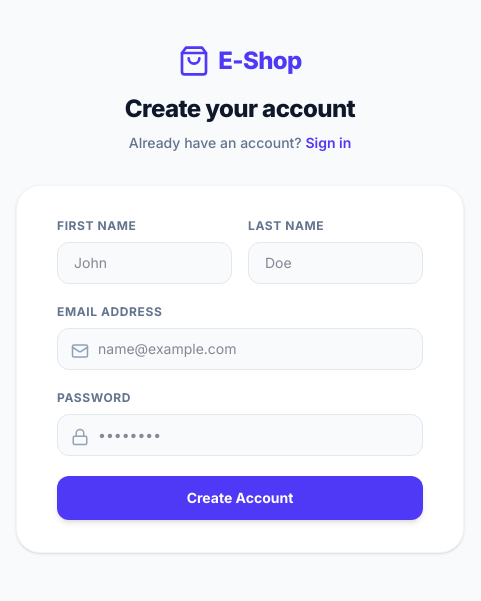
Test case: Register Page › validates empty input values
The width and height of the screenshot is (481, 601).
What coordinates should you click on to do the following:
click the button "Create Account"
I would click on:
 (240, 498)
Its box is [57,476,423,520].
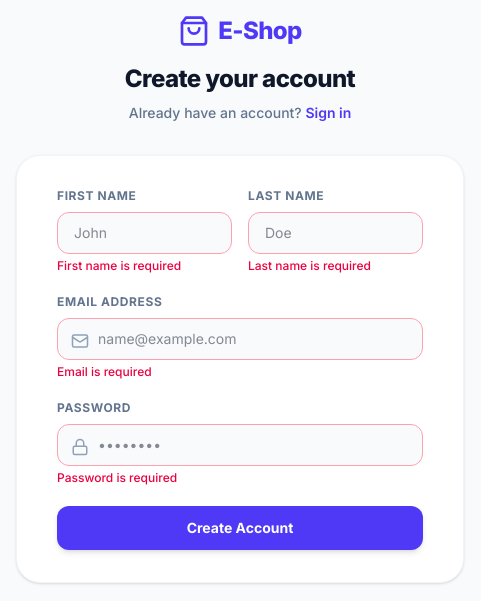
Check: the text "First name is required" is shown, box [57,258,181,273]
Check: the text "Last name is required" is shown, box [248,258,371,273]
Check: the text "Email is required" is shown, box [57,364,152,379]
